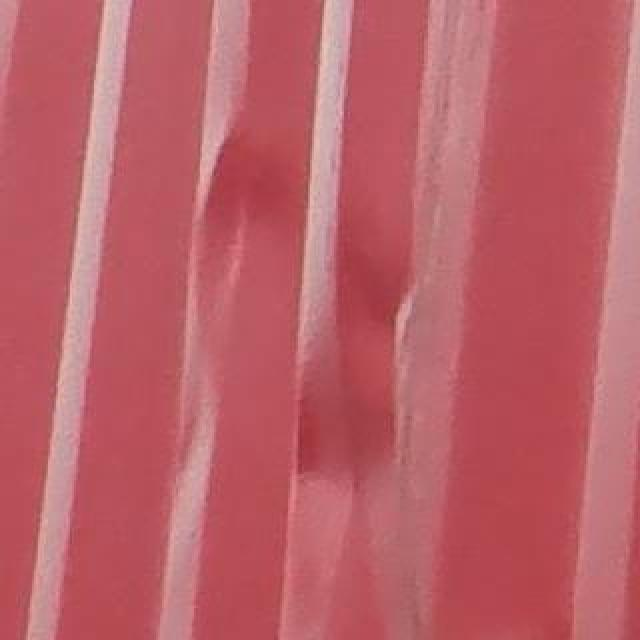dent: (39, 101, 525, 640)
